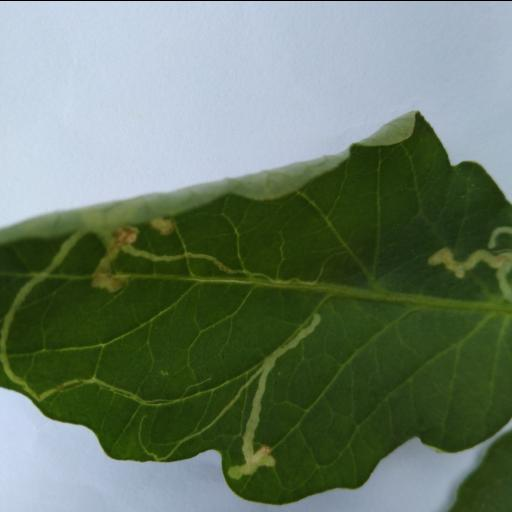disease_tomato: (0, 112, 512, 504)
